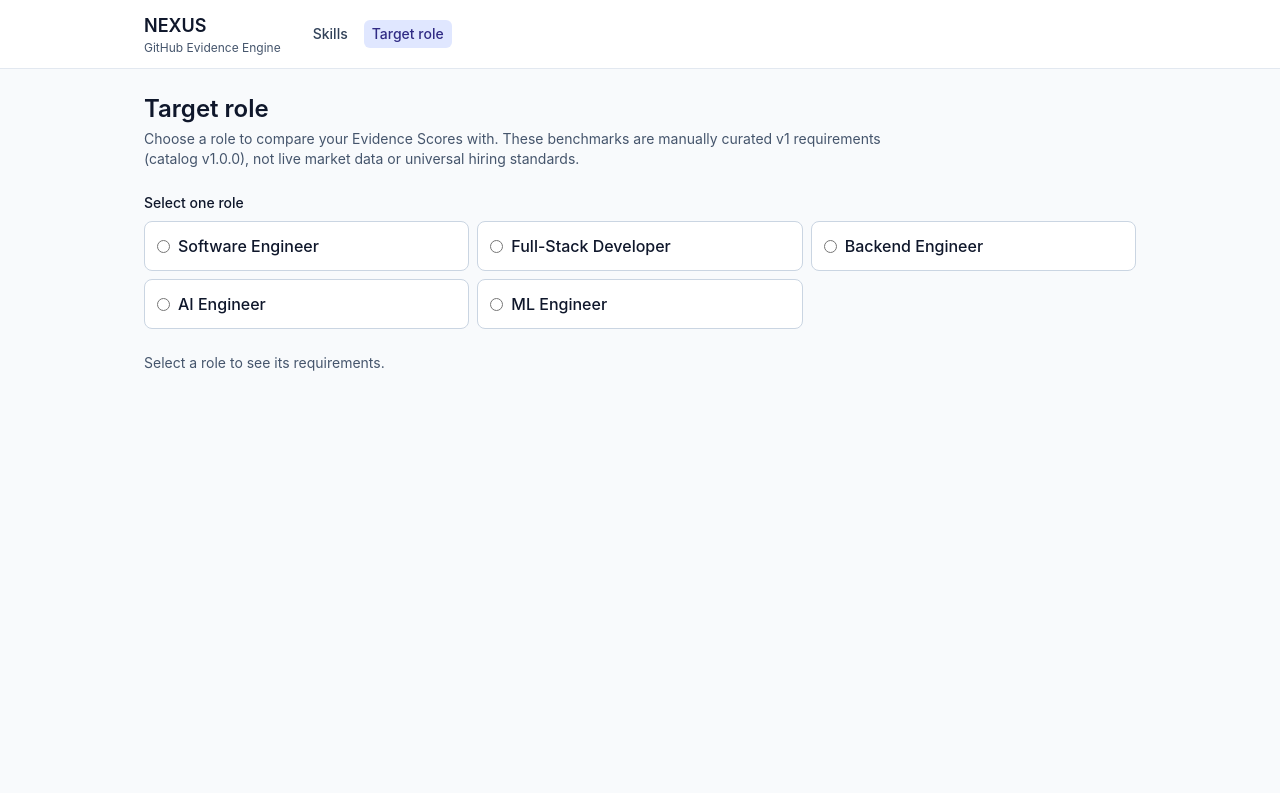
Test case: role selection and gap analysis (real App, stubbed network) › offers five roles, runs gap analysis for the selected role and shows backend values verbatim
Expected: the text "Select one role" is shown, [144,193,244,213]
Click the radio button labelled "AI Engineer". click: x=164, y=304
box: [157,298,170,310]
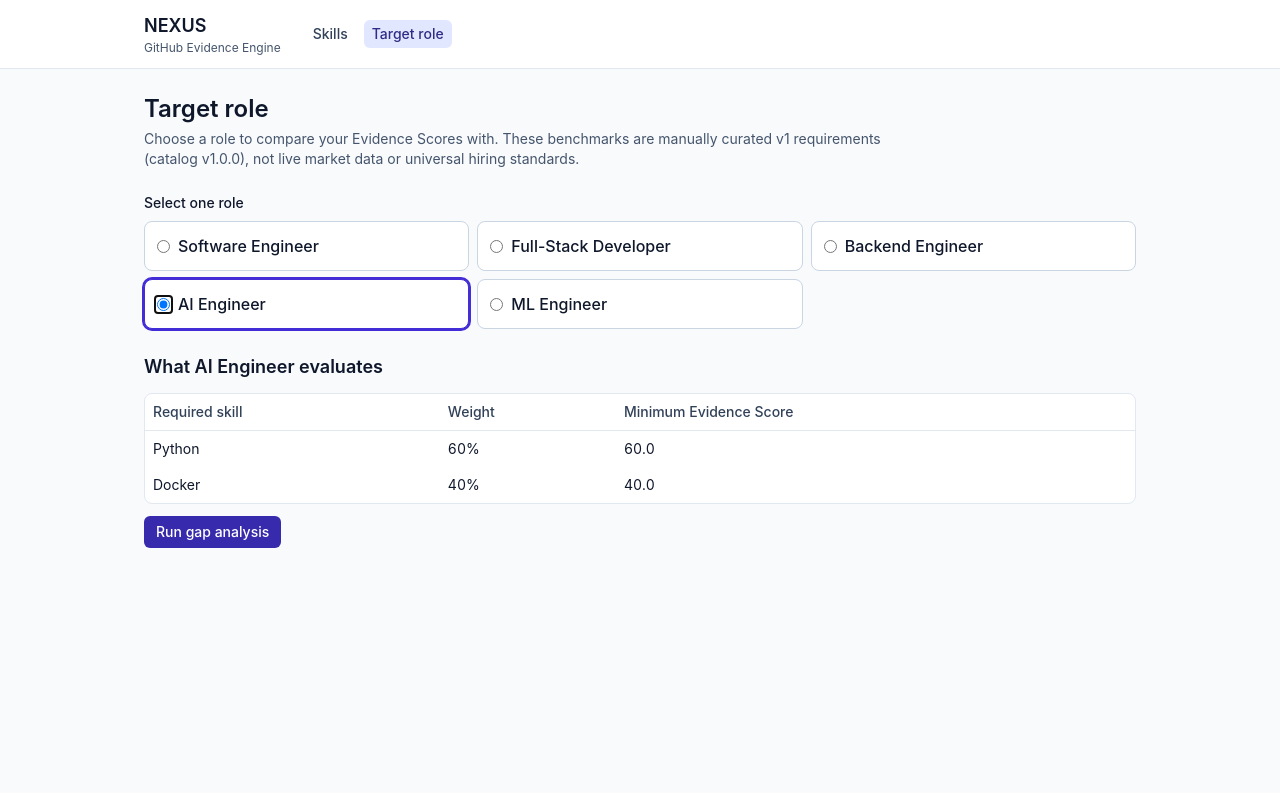
Click the button "Run gap analysis". click: x=213, y=532
box: [144,516,281,548]
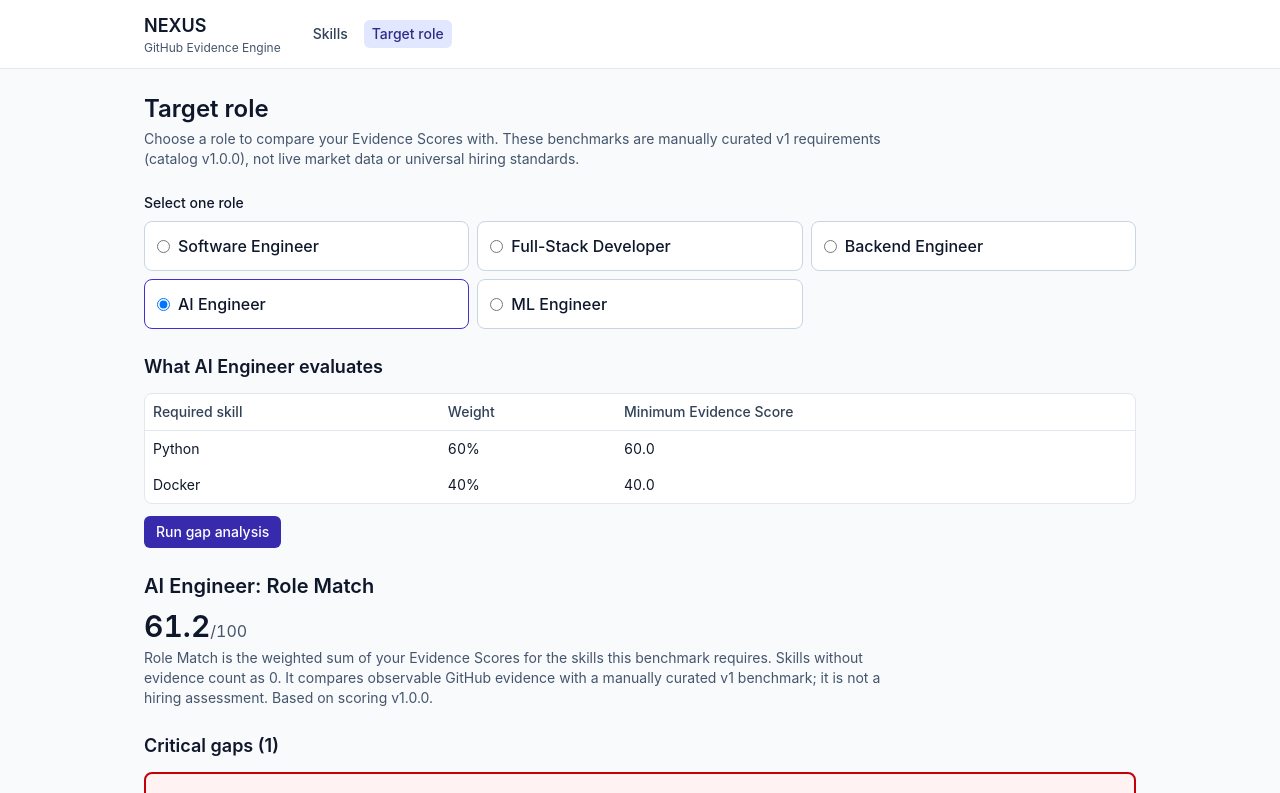
Expected: the heading "AI Engineer: Role Match" is shown, [144,574,374,598]
Expected: the text "61.2" is shown, [144,608,210,644]
